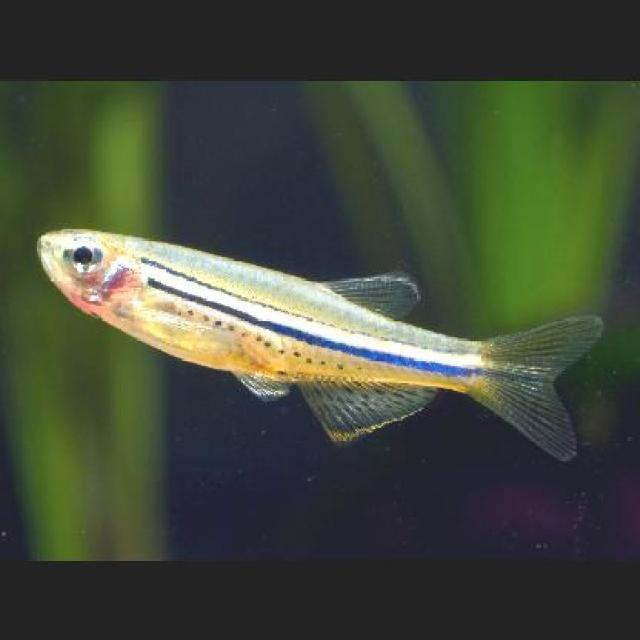ZebraFish: (35, 224, 602, 462)
